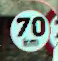Speed limit: (4, 1, 52, 56)
